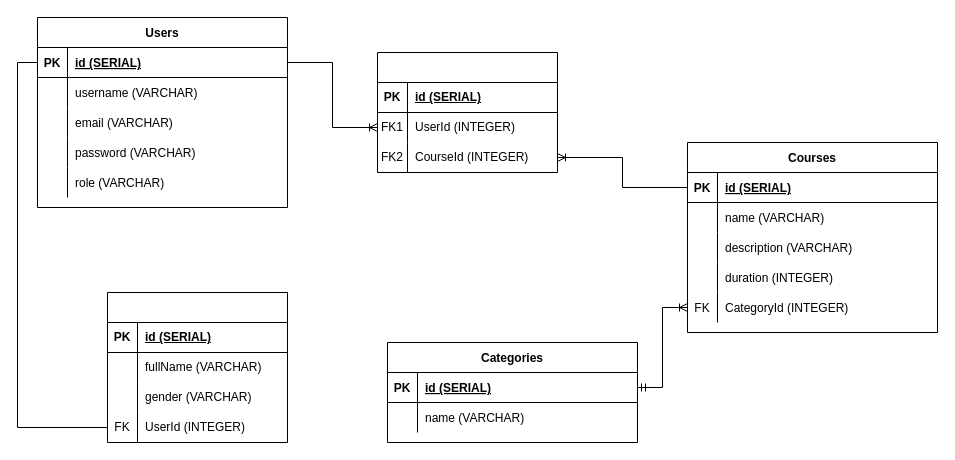
This 955x460 diagram has some shape labels left out. The shapes that lost their labels are listed below. From the top down, each one's box as (x1, y1, x2, y2) in pixels, then its label:
(376, 52, 558, 172): UserCourses
(106, 292, 288, 442): Profiles
